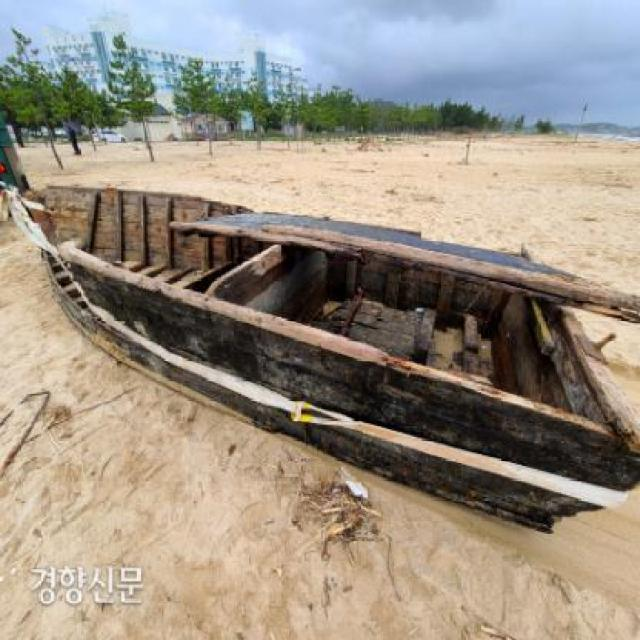fish-b: (1, 179, 639, 544)
